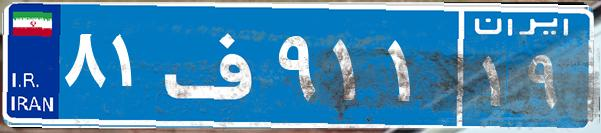1: (385, 28, 445, 110), (330, 28, 385, 110), (475, 38, 525, 113), (110, 28, 158, 105)
8: (57, 26, 110, 107)
9: (273, 28, 330, 110), (525, 38, 570, 115)
ف: (158, 15, 273, 115)
